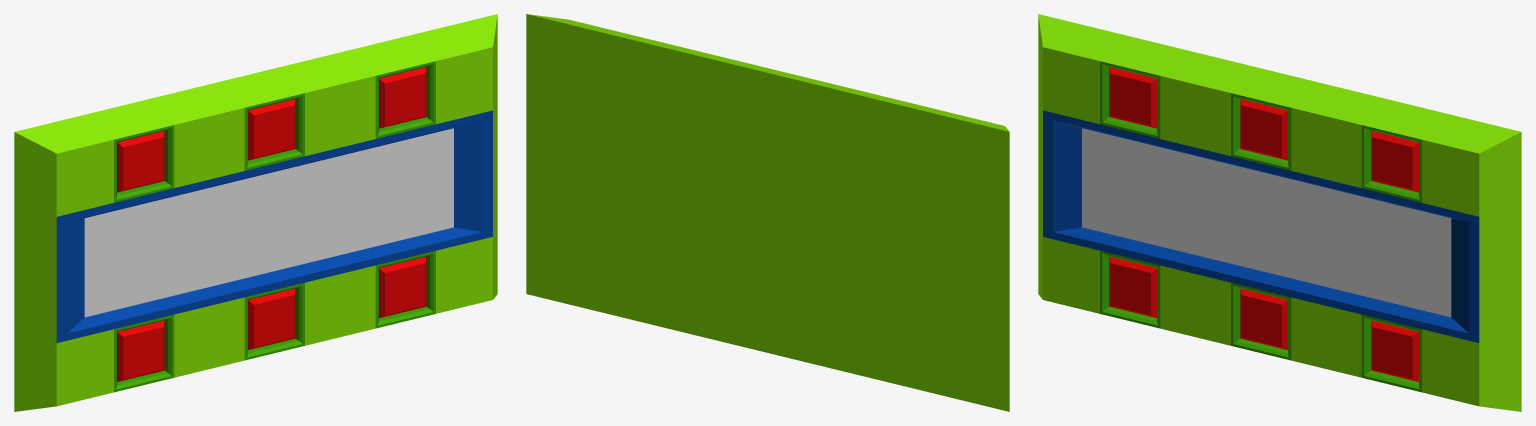
File: Locker_V1.0.fbx
3 renders of one model, left to right at view 1: azimuth 30°, elevation 25°; view 2: azimuth 150°, elevation 25°; view 3: azimuth 330°, elevation 25°, orthographic.
Visible parts, largest first — view 1: pPlane16; view 2: pPlane16; view 3: pPlane16.
Boxes of the visible parts, box(x1,y1,x2,y2) form: pPlane16: box(14, 14, 497, 411); pPlane16: box(526, 14, 1009, 411); pPlane16: box(1038, 14, 1521, 411).
Bounding box in the file's own units: 29.43 × 16.29 × 1.99.
